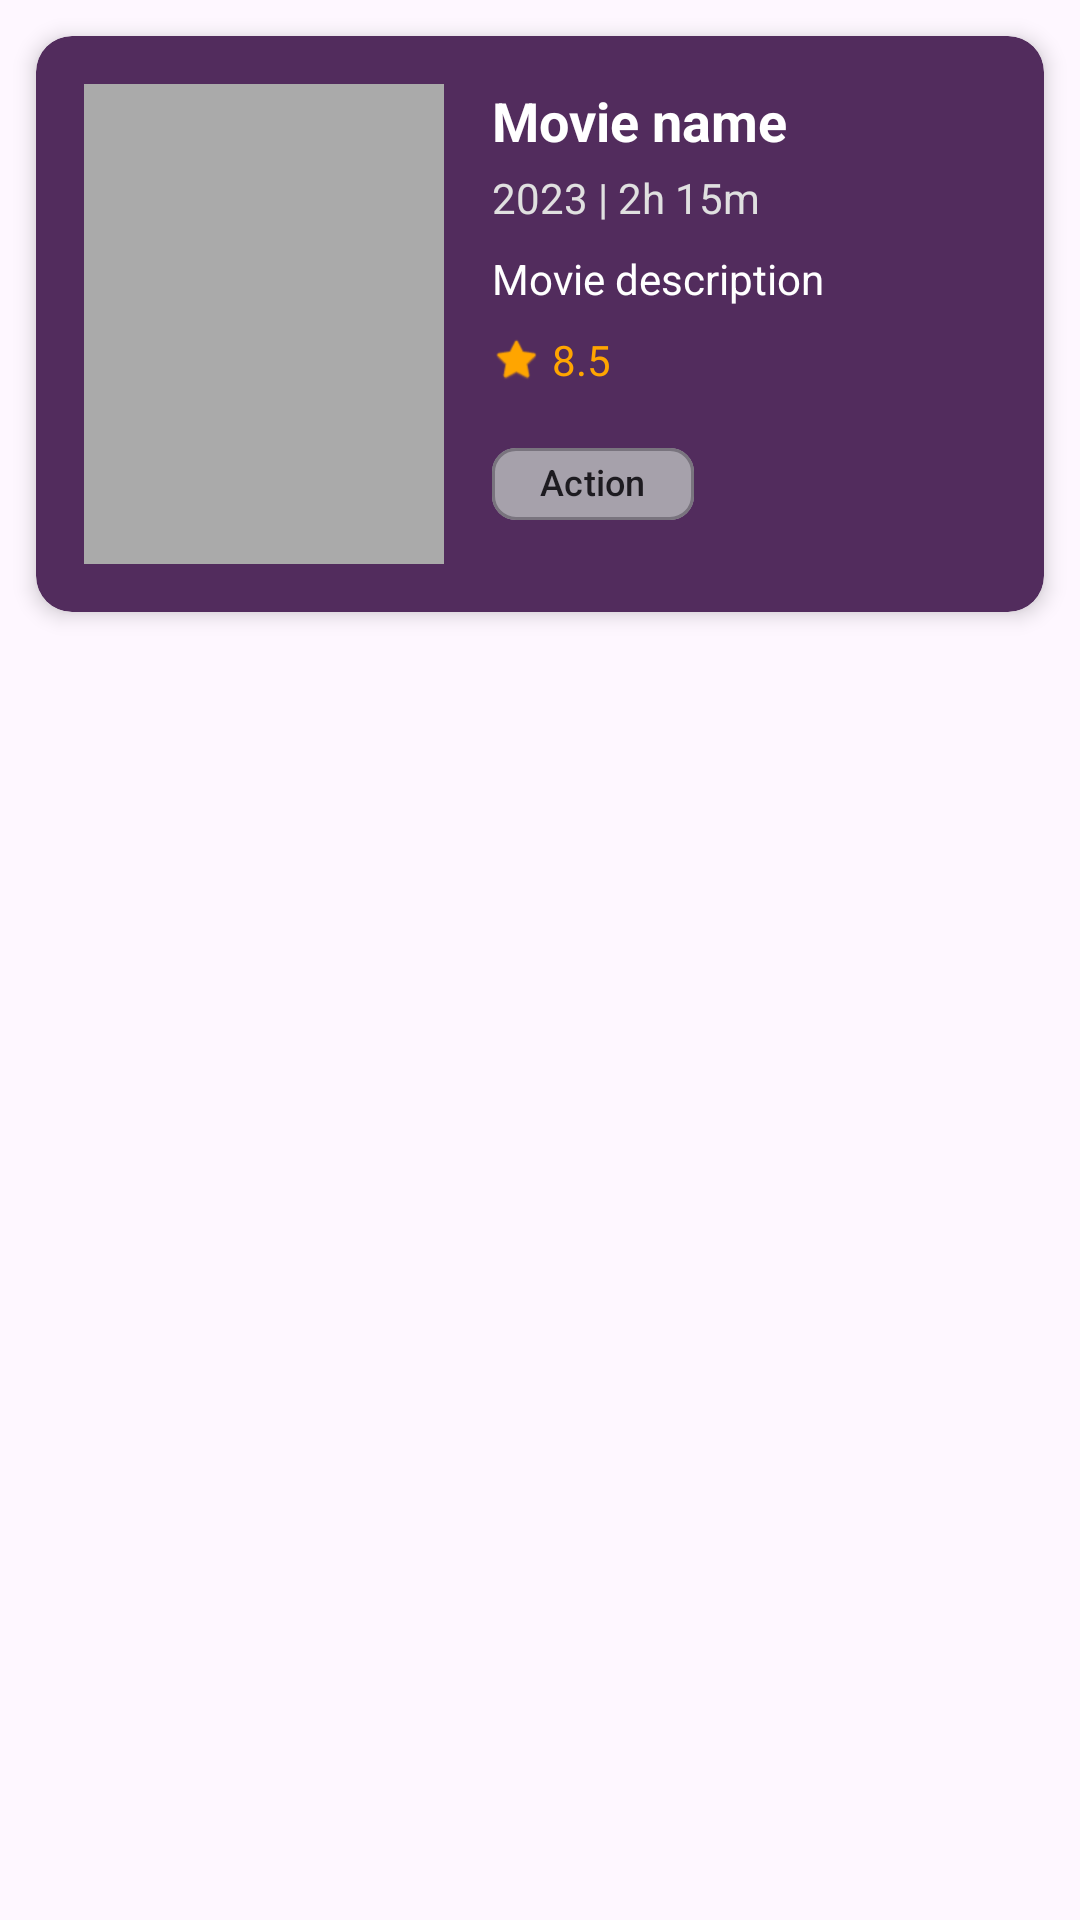

Icons on this 1080px×1920px Android screen, each with the point to tap as (x=x, y=y):
star on: (x=516, y=359)
